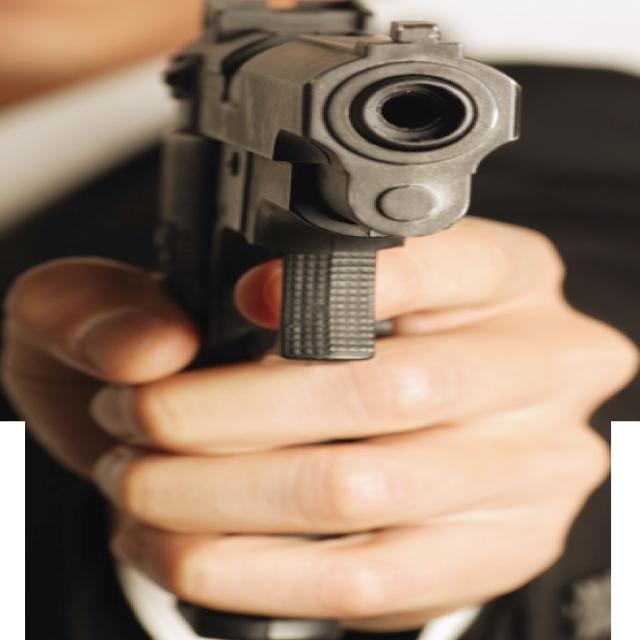HandGun: (154, 0, 524, 374)
